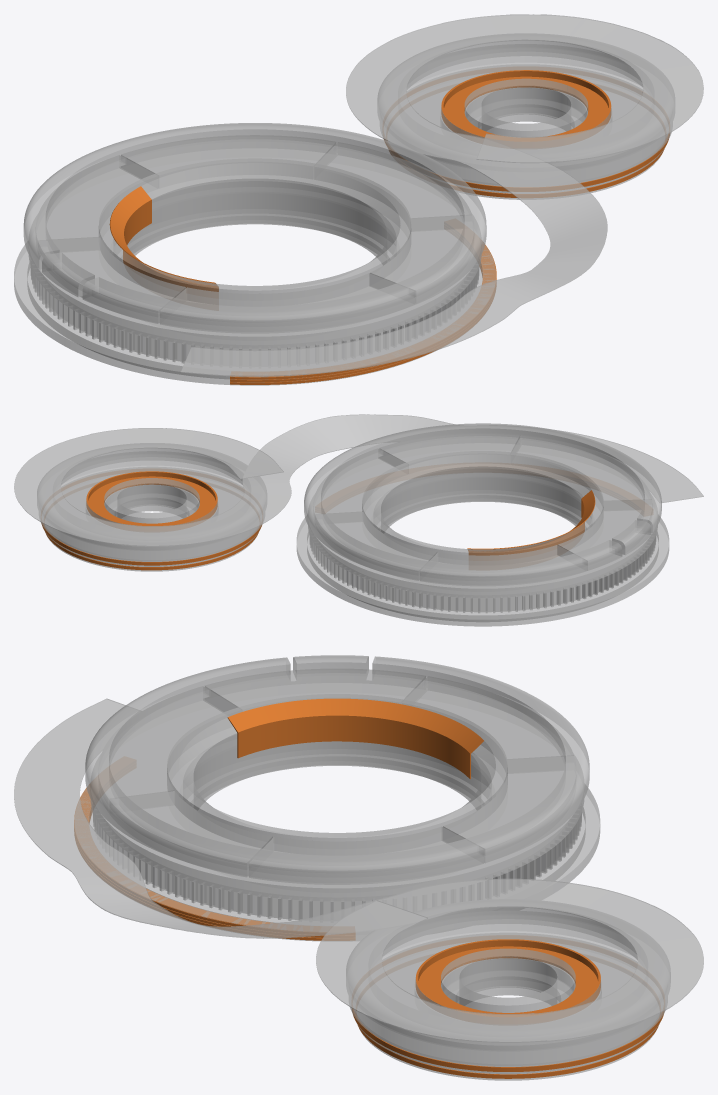
The model's file is reel-device.glb.
The picture shows the model from 3 angles, top to bottom: view 1: azimuth 30°, elevation 25°; view 2: azimuth 150°, elevation 25°; view 3: azimuth 270°, elevation 25°; orthographic projection. The views are drawn at different scales.
Parts seen in each view (by area): view 1: Ribbon, Big_Tread, Big_Rim, Big_Middle, Big_Collar, Small_Body, Big_Colonnade, Small_Rim, Small_Orange, Big_Base, Small_Tier, Big_Ribs (+7 smaller); view 2: Ribbon, Big_Tread, Big_Rim, Big_Middle, Big_Collar, Big_Colonnade, Small_Body, Big_Base, Small_Rim, Small_Orange, Big_BaseEdge, Small_Tier (+5 smaller); view 3: Ribbon, Big_Tread, Big_Rim, Big_Middle, Big_Collar, Small_Body, Small_Rim, Big_Colonnade, Small_Orange, Big_OrangeInner, Small_Tier, Big_Base (+7 smaller).
Part boxes in pixels (x1,y1,x2,y2): Ribbon: (180, 14, 703, 376); Big_Tread: (36, 135, 473, 333); Big_Rim: (23, 123, 486, 331); Big_Middle: (28, 146, 481, 348); Big_Collar: (98, 158, 411, 306); Small_Body: (380, 44, 672, 185); Big_Colonnade: (40, 193, 468, 366); Small_Rim: (378, 34, 674, 172); Small_Orange: (384, 67, 669, 197); Big_Base: (27, 213, 482, 378); Small_Tier: (406, 64, 667, 193); Big_Ribs: (30, 260, 479, 367); Ribbon: (14, 414, 703, 546); Big_Tread: (313, 433, 652, 586); Big_Rim: (304, 423, 661, 585); Big_Middle: (308, 441, 657, 597); Big_Collar: (362, 451, 603, 564); Big_Colonnade: (319, 477, 647, 612); Small_Body: (39, 451, 264, 561); Big_Base: (307, 493, 658, 621); Small_Rim: (37, 443, 266, 550); Small_Orange: (41, 469, 261, 570); Big_BaseEdge: (296, 515, 669, 626); Small_Tier: (44, 467, 260, 566); Ribbon: (14, 698, 703, 1042); Big_Tread: (98, 669, 575, 884); Big_Rim: (85, 655, 589, 883); Big_Middle: (90, 680, 584, 901); Big_Collar: (167, 694, 507, 854); Small_Body: (349, 911, 667, 1065); Small_Rim: (346, 899, 670, 1051); Big_Colonnade: (105, 741, 569, 920); Small_Orange: (352, 936, 664, 1078); Big_OrangeInner: (227, 698, 483, 778); Small_Tier: (354, 933, 660, 1073); Big_Base: (89, 754, 585, 925).
Bounding box in the file's own units: 3.4 × 0.2998 × 2.61.
